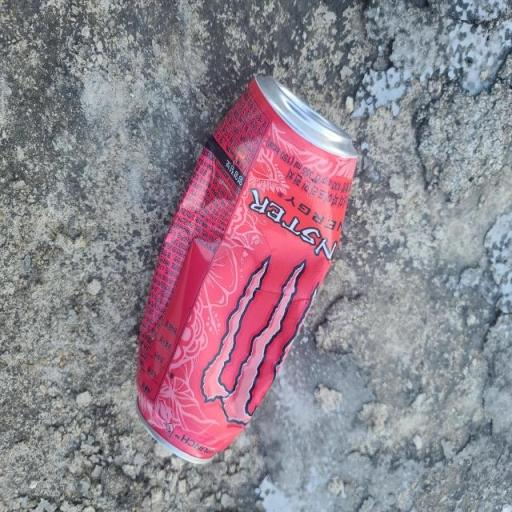metal: (117, 35, 405, 512)
